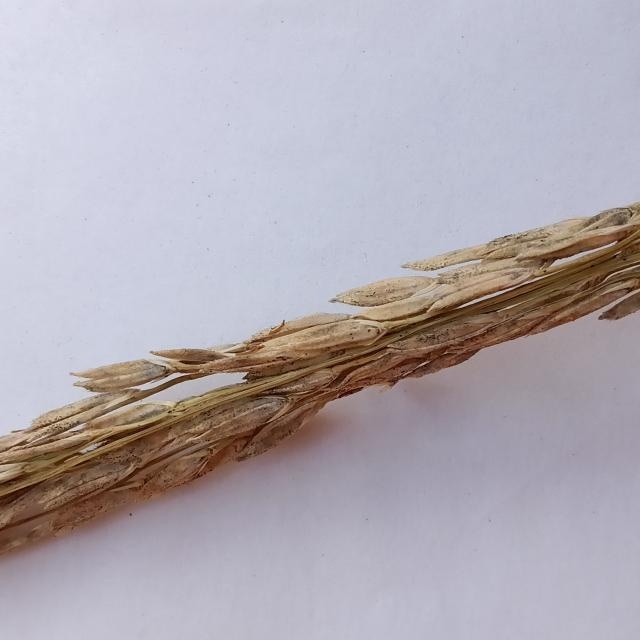Neck_Blast: (0, 206, 637, 550)
